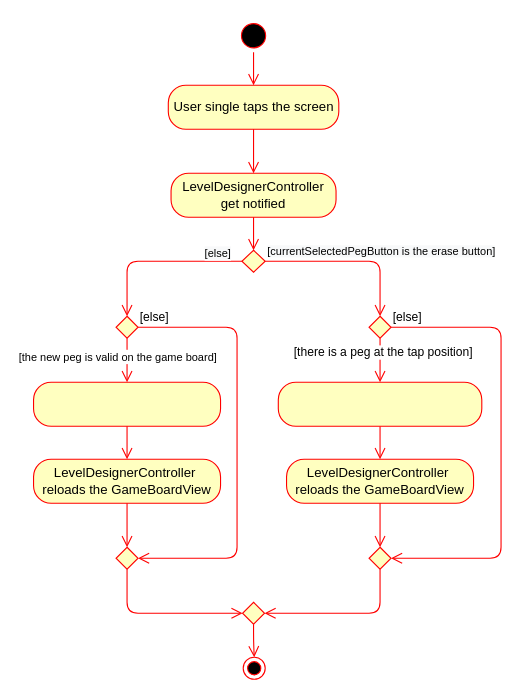
Some shapes in this 531 by 699 pixel diagram are drawn without their labels. The shapes that lost their labels are listed below. From the top down, each one's box as (x1, y1, x2, y2) in pixels, then its label:
(32, 381, 221, 426): LevelDesignerController adds the peg to the model
(277, 381, 482, 426): LevelDesignerController deletes the peg from the model
